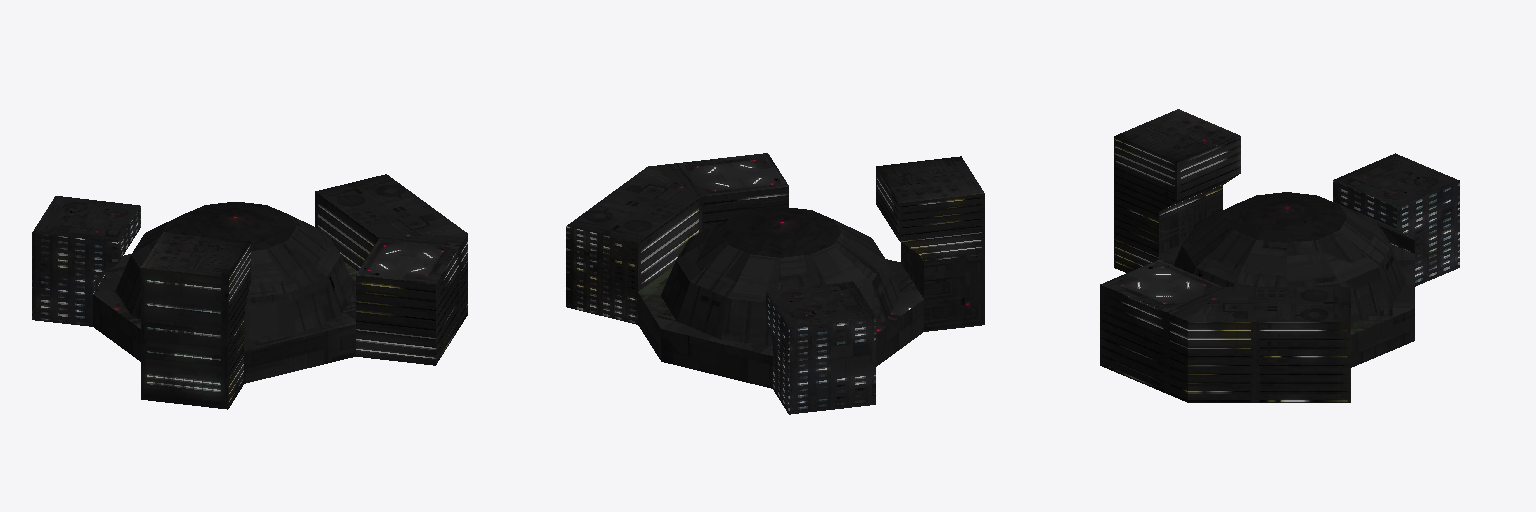
The picture shows the model from 3 angles: view 1: azimuth 30°, elevation 25°; view 2: azimuth 150°, elevation 25°; view 3: azimuth 270°, elevation 25°; orthographic projection.
Parts seen in each view (by area): view 1: building_35; view 2: building_35; view 3: building_35.
Part boxes in pixels (x1,y1,x2,y2): building_35: (32, 174, 467, 409); building_35: (566, 153, 984, 414); building_35: (1100, 109, 1459, 402).
Bounding box in the file's own units: 123 × 46.48 × 115.
Materials: 1 (1 with a texture image).